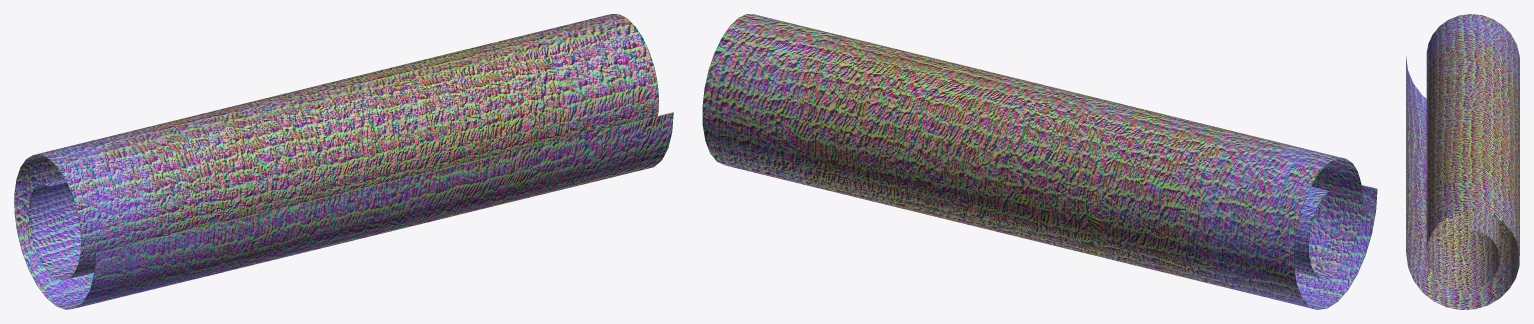
File: carpetend.fbx
3 views of the same model, side by side, from view 1: azimuth 30°, elevation 25°; view 2: azimuth 150°, elevation 25°; view 3: azimuth 270°, elevation 25° (orthographic). The views are drawn at different scales.
Visible parts, largest first — view 1: carpet0008__1_; view 2: carpet0008__1_; view 3: carpet0008__1_.
Boxes of the visible parts, box(x1,y1,x2,y2) form: carpet0008__1_: box(14, 14, 673, 309); carpet0008__1_: box(702, 14, 1377, 309); carpet0008__1_: box(1406, 14, 1519, 309).
Size of the model in its own units: 2661 by 623 by 649.
Materials: 1 (1 with a texture image).
